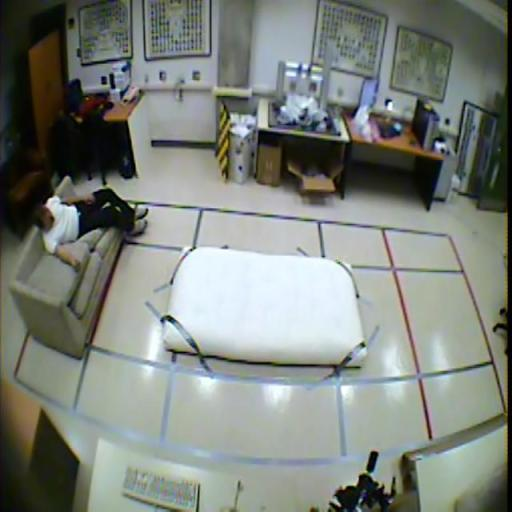Fall: (33, 186, 149, 272)
